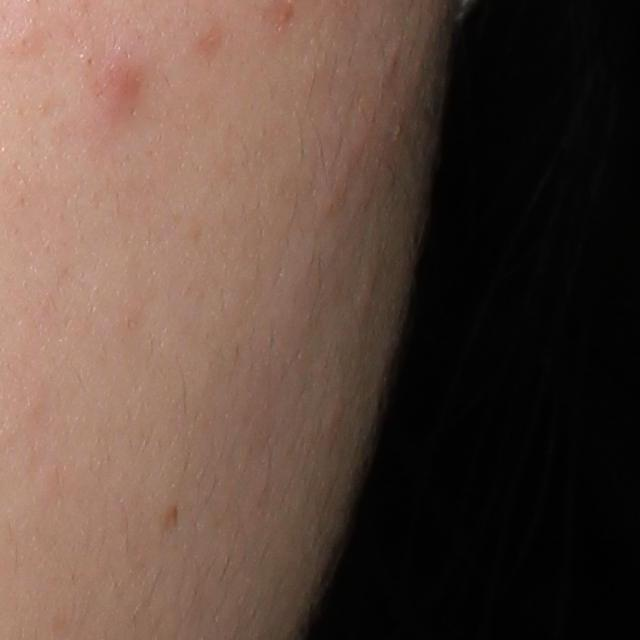comedo: (4, 26, 42, 56)
papule: (99, 57, 148, 122)
